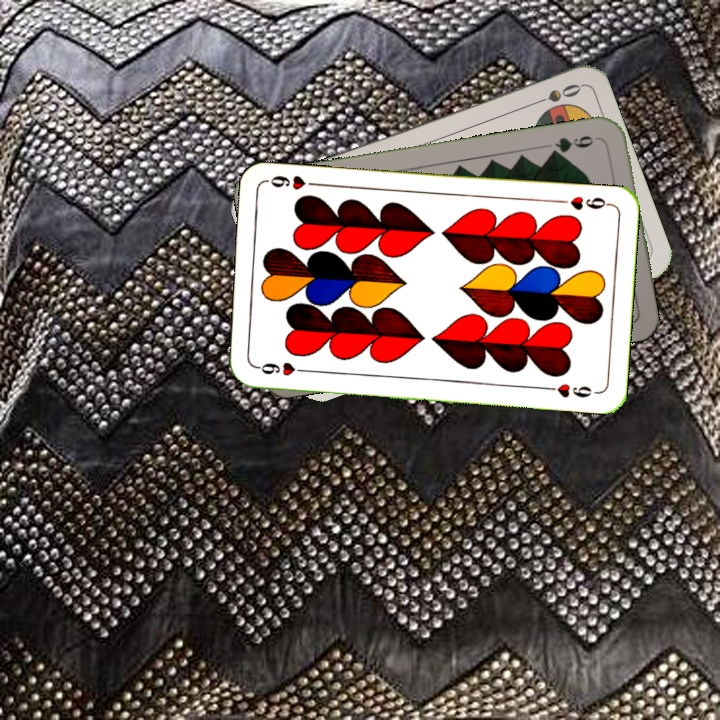G9: (546, 131, 604, 158)
H9: (252, 358, 311, 379), (554, 192, 613, 212)
SO: (526, 80, 584, 109)
